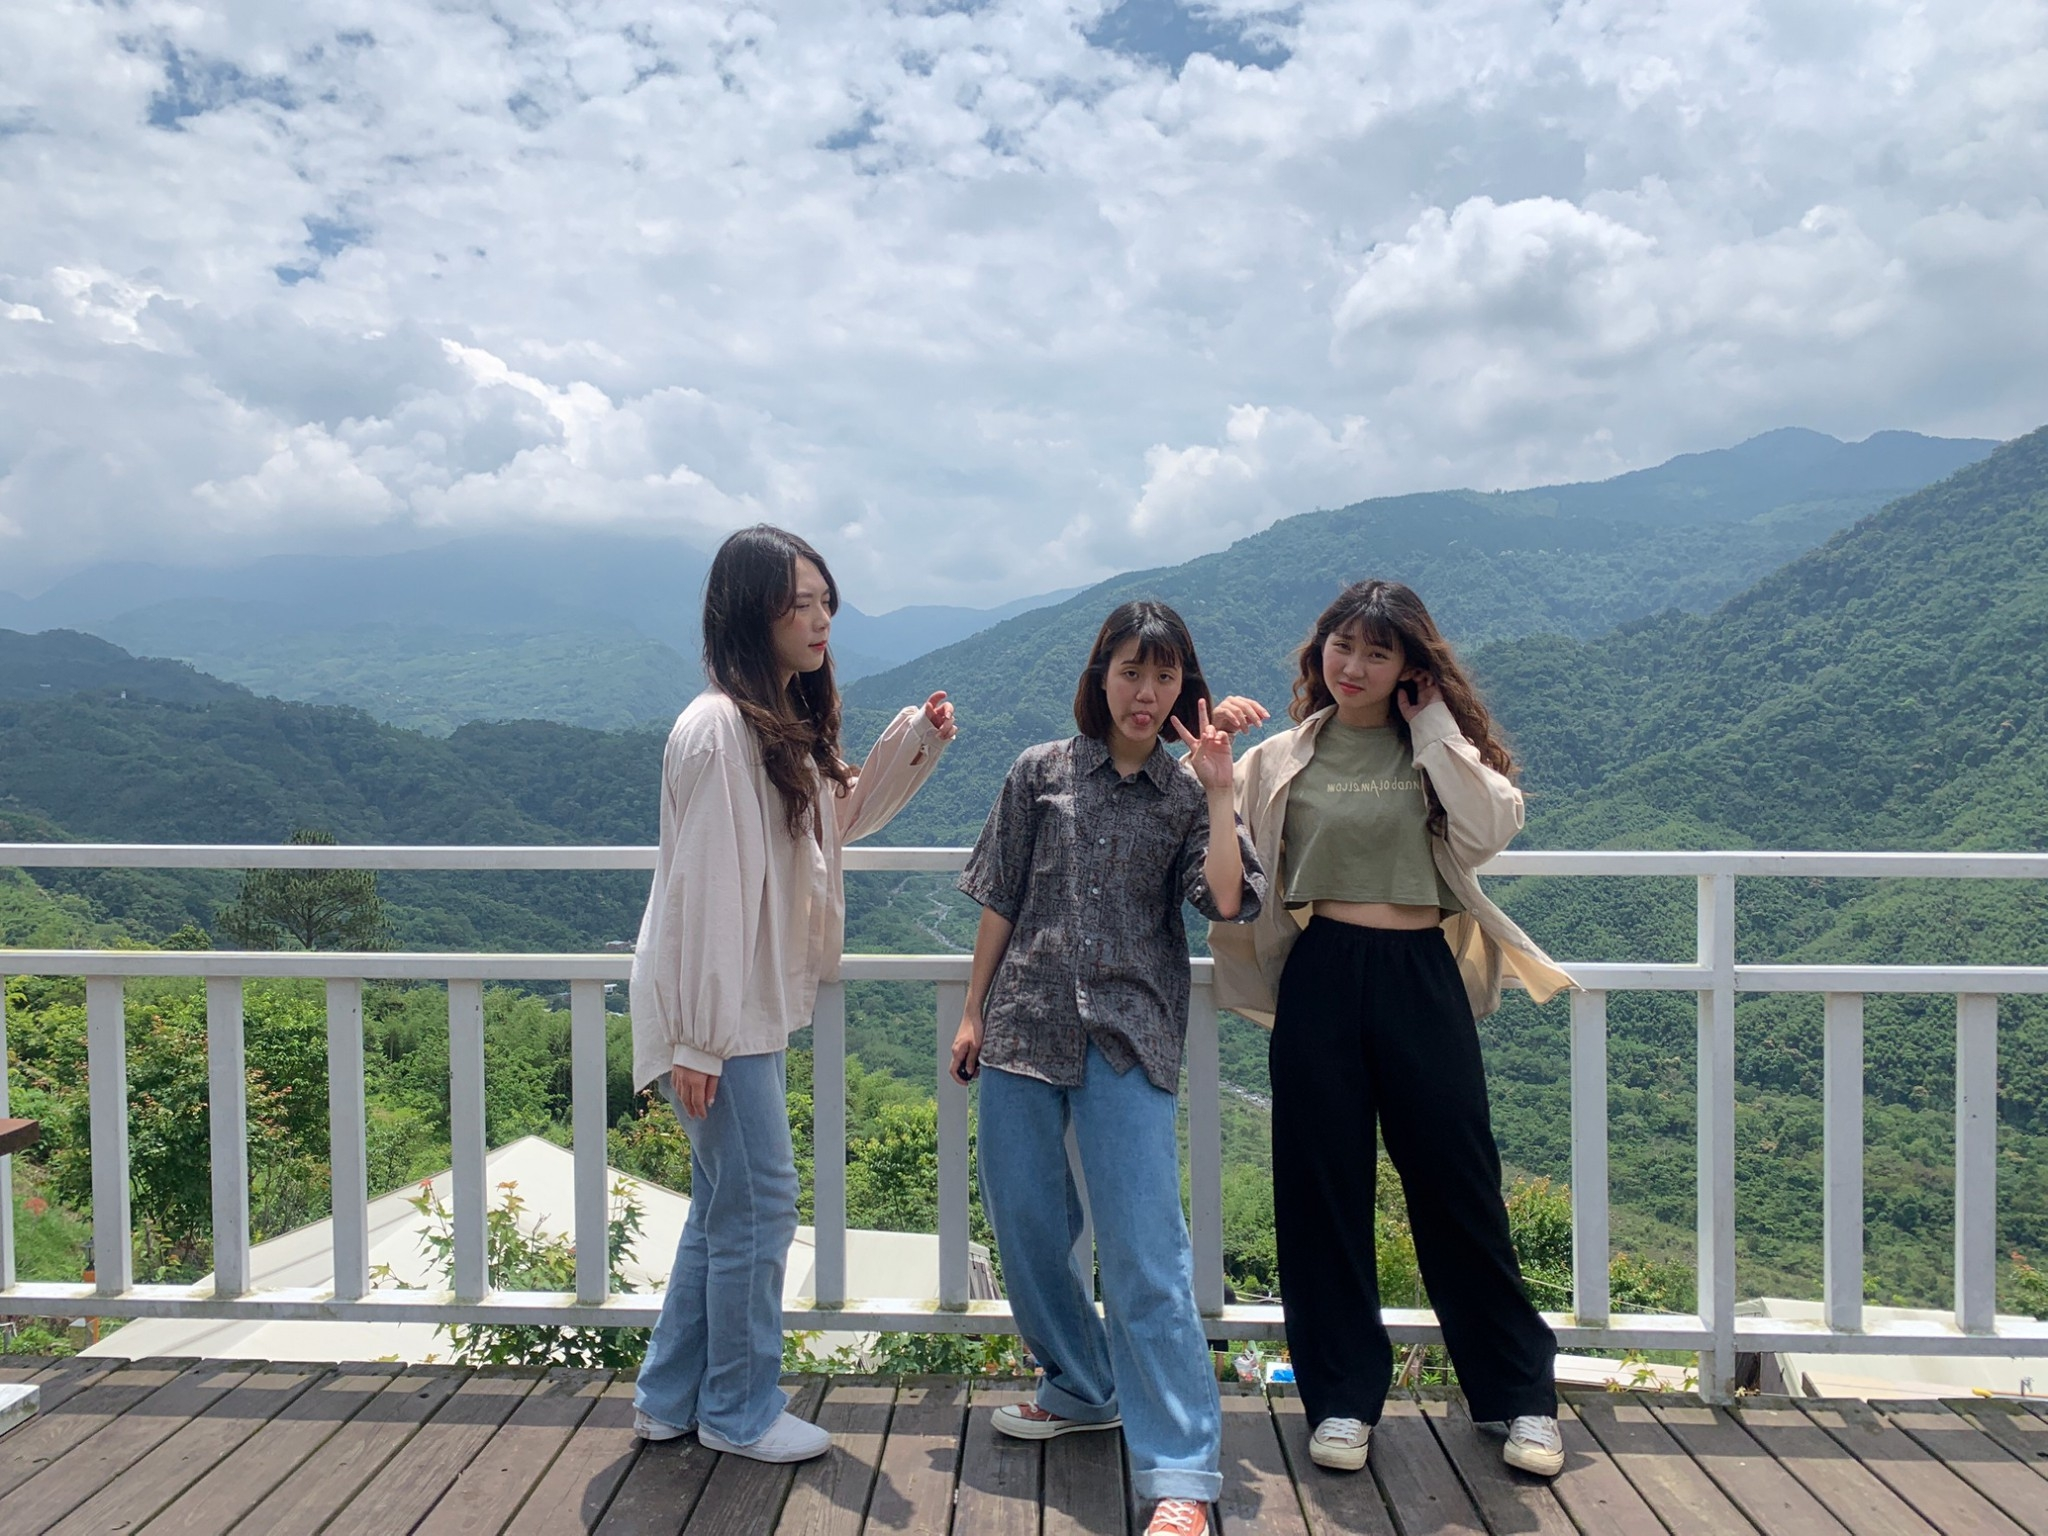people: (1272, 587, 1528, 1478), (987, 596, 1210, 1536), (669, 525, 869, 1460)
